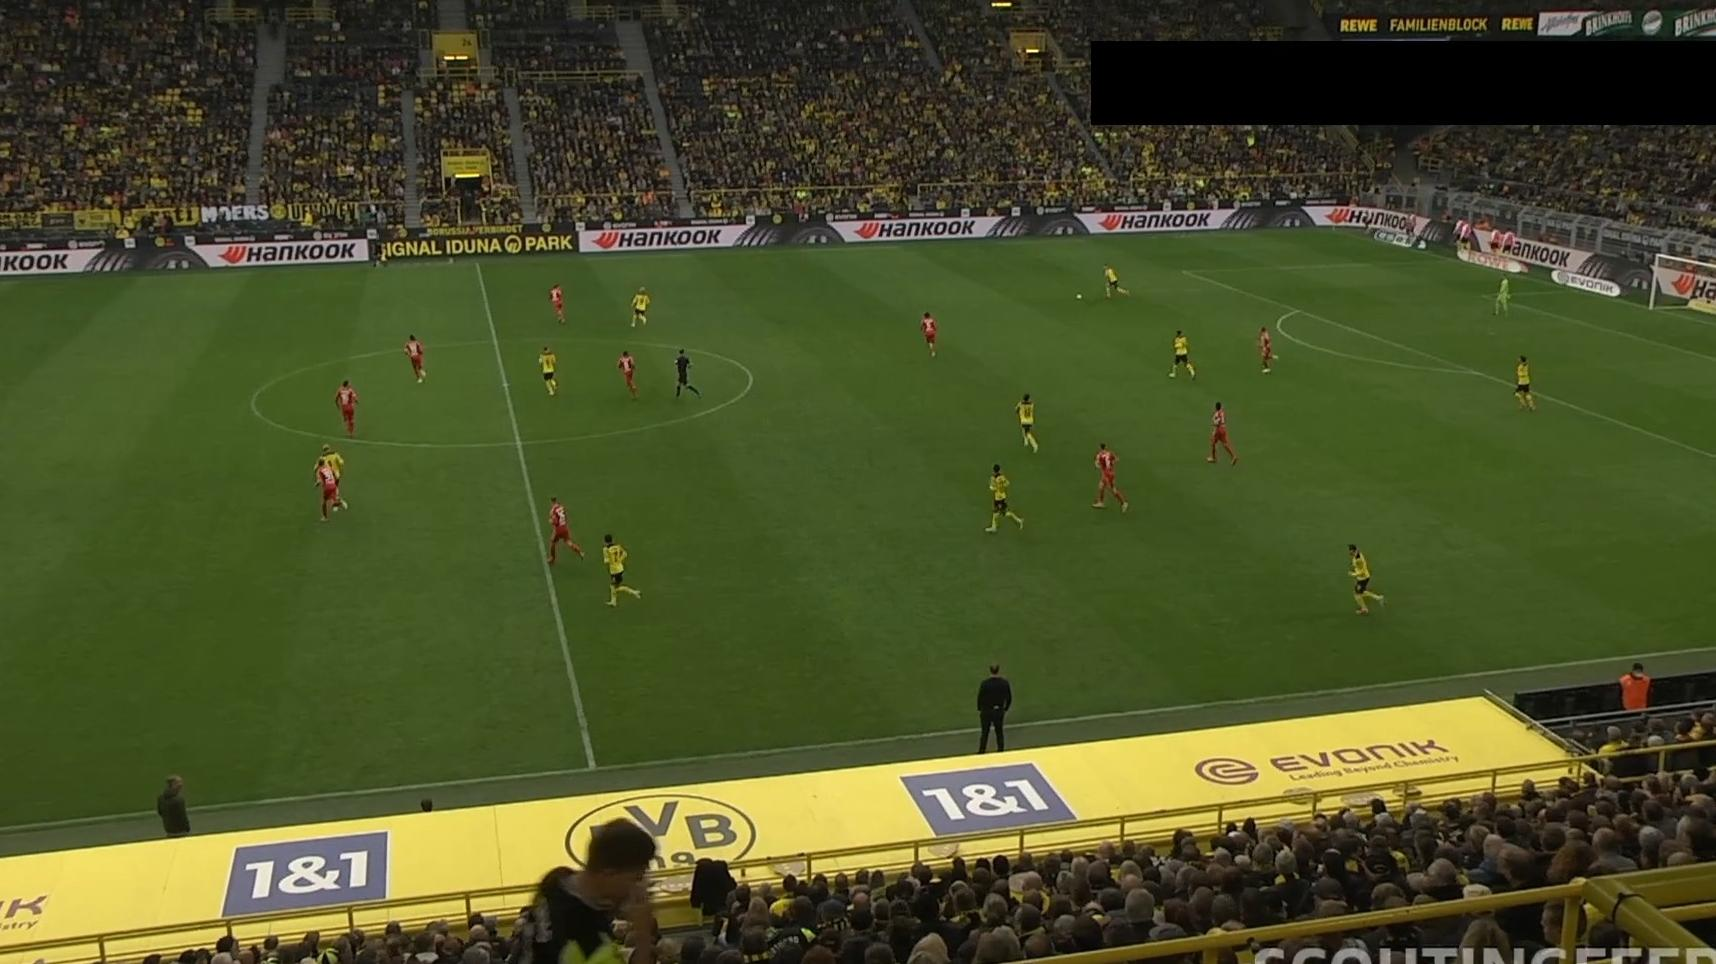ball: (1075, 292, 1082, 301)
